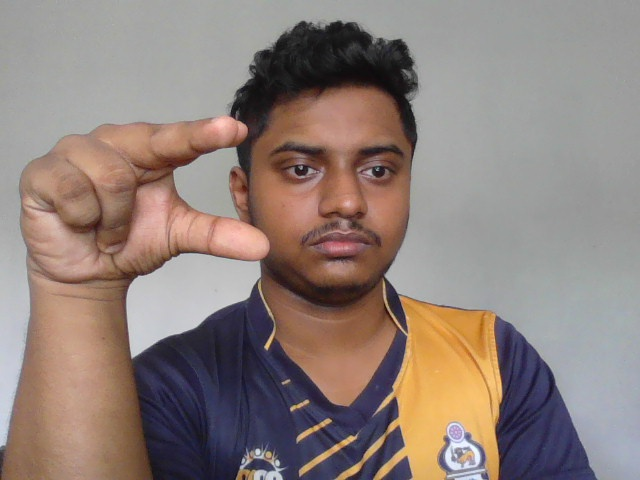No: (18, 117, 273, 282)
